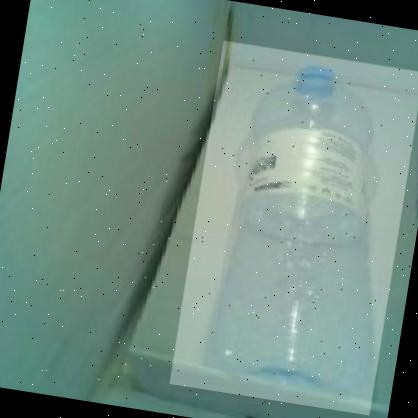bottle: (169, 40, 418, 415)
label: (220, 114, 386, 227)
